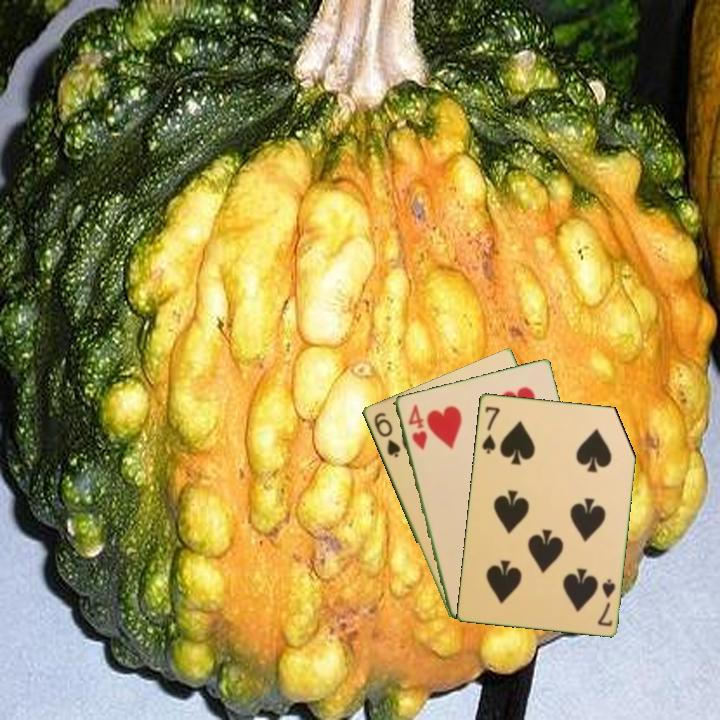4h: (404, 401, 430, 453)
6s: (370, 409, 403, 460)
7s: (594, 575, 618, 629), (478, 403, 502, 456)
